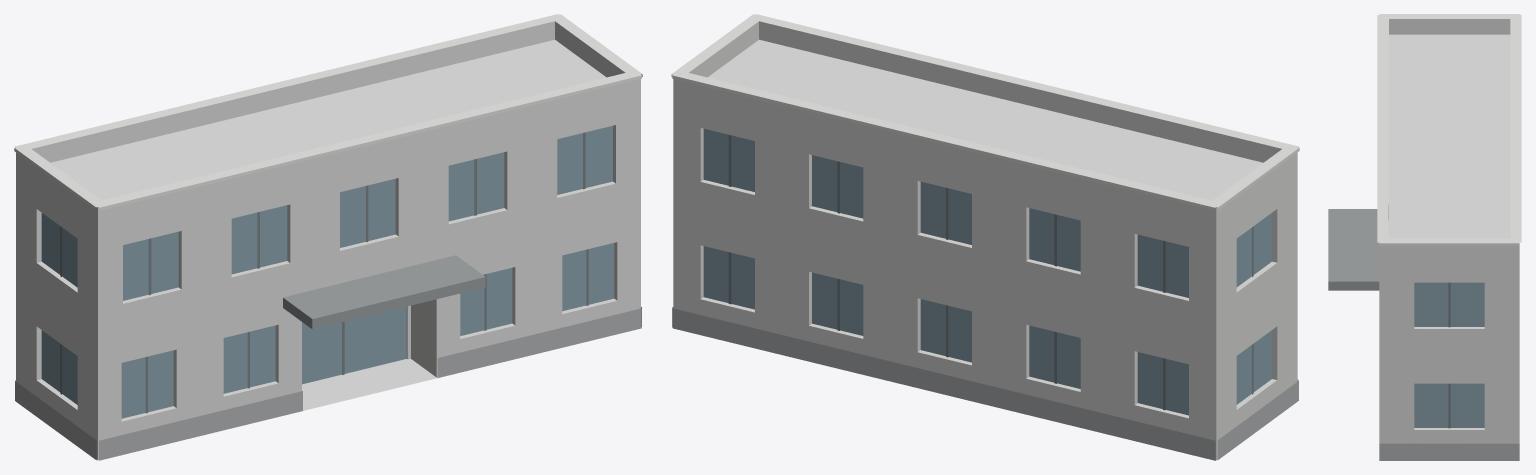
The picture shows the model from 3 angles, left to right: view 1: azimuth 30°, elevation 25°; view 2: azimuth 150°, elevation 25°; view 3: azimuth 270°, elevation 25°; orthographic projection. The views are drawn at different scales.
Visible parts, largest first — view 1: smartResearch__wall, smartResearch__glass, smartResearch__roof, smartResearch__parapet, smartResearch__trim, smartResearch__base, smartResearch__canopy, smartResearch__frame; view 2: smartResearch__wall, smartResearch__glass, smartResearch__roof, smartResearch__parapet, smartResearch__base, smartResearch__trim, smartResearch__frame; view 3: smartResearch__roof, smartResearch__wall, smartResearch__trim, smartResearch__glass, smartResearch__canopy, smartResearch__parapet, smartResearch__base, smartResearch__frame.
Part boxes in pixels (bbox=[...]): smartResearch__wall: bbox=[16, 93, 640, 460]; smartResearch__glass: bbox=[41, 125, 614, 418]; smartResearch__roof: bbox=[50, 39, 606, 460]; smartResearch__parapet: bbox=[16, 21, 640, 225]; smartResearch__trim: bbox=[14, 14, 642, 210]; smartResearch__base: bbox=[15, 307, 641, 460]; smartResearch__canopy: bbox=[283, 255, 485, 329]; smartResearch__frame: bbox=[60, 132, 588, 413]; smartResearch__wall: bbox=[673, 93, 1297, 459]; smartResearch__glass: bbox=[703, 128, 1271, 415]; smartResearch__roof: bbox=[708, 39, 1263, 460]; smartResearch__parapet: bbox=[673, 21, 1297, 225]; smartResearch__base: bbox=[672, 307, 1298, 460]; smartResearch__trim: bbox=[671, 14, 1299, 210]; smartResearch__frame: bbox=[728, 135, 1253, 410]; smartResearch__roof: bbox=[1388, 34, 1510, 238]; smartResearch__wall: bbox=[1379, 258, 1519, 443]; smartResearch__trim: bbox=[1377, 14, 1521, 246]; smartResearch__glass: bbox=[1414, 282, 1484, 427]; smartResearch__canopy: bbox=[1328, 209, 1379, 290]; smartResearch__parapet: bbox=[1379, 19, 1519, 258]; smartResearch__base: bbox=[1379, 443, 1519, 460]; smartResearch__frame: bbox=[1448, 282, 1450, 428].
Bounding box in the file's own units: 17.05 × 7.57 × 6.07.
